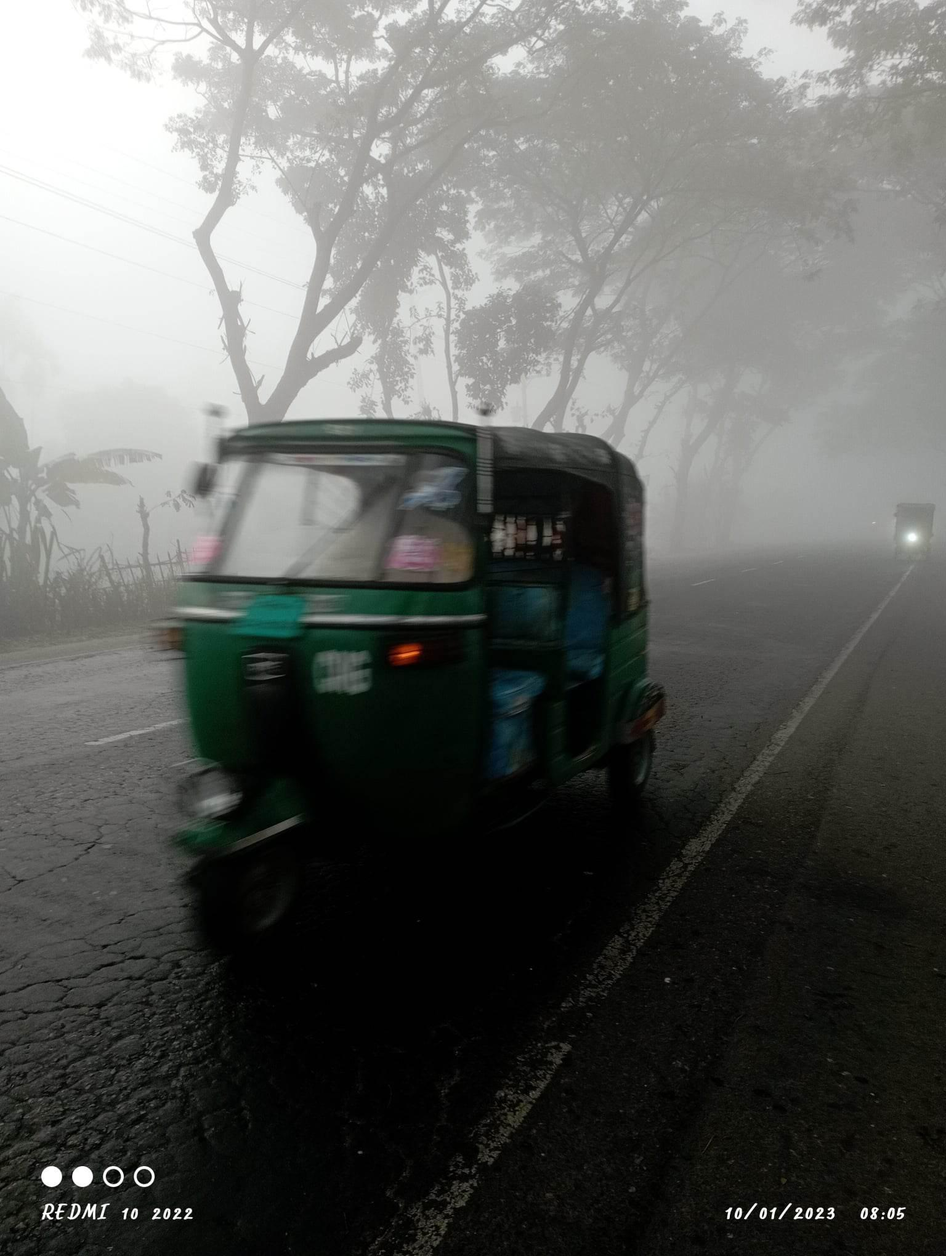Car: (868, 485, 946, 578)
